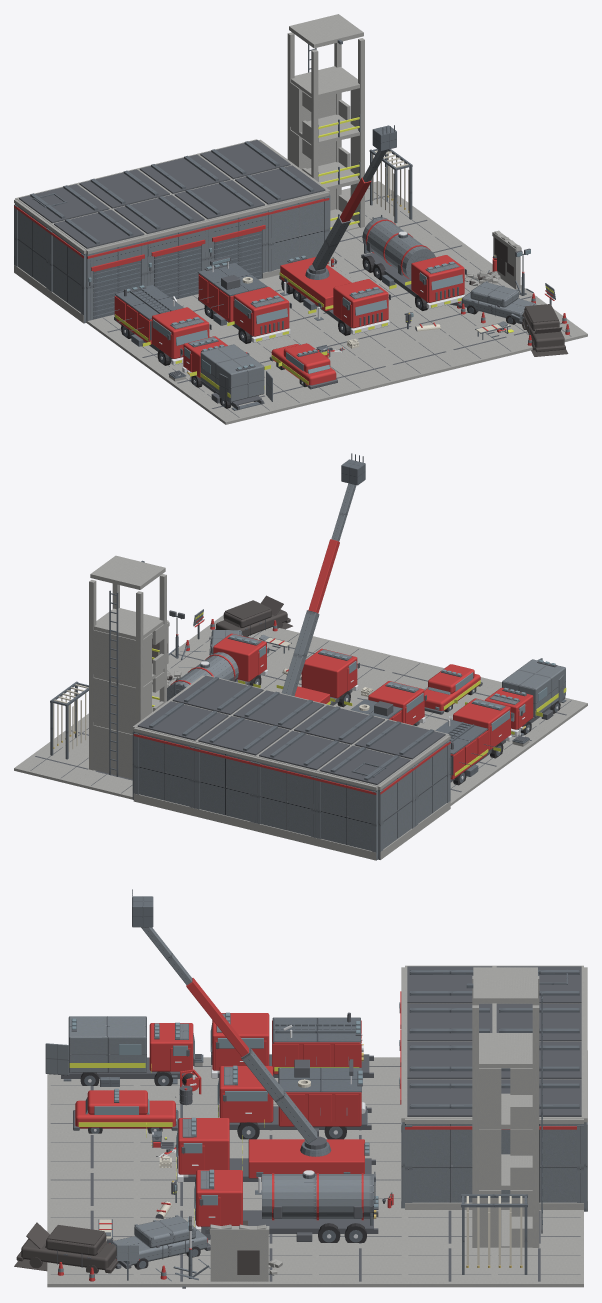
Rendered from fire-and-emergency-services-station-turn-9a0dc357-starter-scene__29942.glb.
3 views of the same model, one above another, from view 1: azimuth 30°, elevation 25°; view 2: azimuth 150°, elevation 25°; view 3: azimuth 270°, elevation 25° (orthographic). The views are drawn at different scales.
Parts seen in each view (by area): view 1: 064-drill-tower/0, 047-station-wall-module/0, 068-ladder-platform-appliance-boom-raised/20, 070-ambulance-rear-doors-open/16, 041-station-wall-module/0, 023-station-floor-slab/0, 069-water-carrier/22, 029-station-floor-slab/0, 040-station-wall-module/0, 045-appliance-bay-door-module/bay-door/tread, 017-station-floor-slab/0, 044-appliance-bay-door-module/bay-door/tread (+48 smaller); view 2: 064-drill-tower/0, 036-station-wall-module/0, 039-station-wall-module/0, 037-station-wall-module/0, 038-station-wall-module/0, 068-ladder-platform-appliance-boom-raised/boom-lift (×3), 040-station-wall-module/0, 041-station-wall-module/0, 068-ladder-platform-appliance-boom-raised/20, 030-station-floor-slab/0, 070-ambulance-rear-doors-open/16, 093-burnt-car-shell/0 (+35 smaller); view 3: 064-drill-tower/0, 068-ladder-platform-appliance-boom-raised/20, 043-station-wall-module/0, 069-water-carrier/22, 068-ladder-platform-appliance-boom-raised/boom-lift (×3), 070-ambulance-rear-doors-open/16, 042-station-wall-module/0, 032-station-floor-slab/0, 093-burnt-car-shell/0, 031-station-floor-slab/0, 030-station-floor-slab/0, 023-station-floor-slab/0 (+64 smaller).
Boxes of the visible parts, left/top/right/bottom form: 064-drill-tower/0: left=287, top=14, right=364, bottom=230; 047-station-wall-module/0: left=268, top=195, right=329, bottom=271; 068-ladder-platform-appliance-boom-raised/20: left=280, top=257, right=388, bottom=328; 070-ambulance-rear-doors-open/16: left=188, top=337, right=264, bottom=401; 041-station-wall-module/0: left=49, top=229, right=86, bottom=323; 023-station-floor-slab/0: left=372, top=338, right=467, bottom=380; 069-water-carrier/22: left=362, top=217, right=459, bottom=279; 029-station-floor-slab/0: left=433, top=323, right=527, bottom=365; 040-station-wall-module/0: left=14, top=204, right=49, bottom=289; 045-appliance-bay-door-module/bay-door/tread: left=154, top=245, right=201, bottom=299; 017-station-floor-slab/0: left=330, top=353, right=406, bottom=395; 044-appliance-bay-door-module/bay-door/tread: left=93, top=260, right=141, bottom=319; 064-drill-tower/0: left=89, top=555, right=166, bottom=779; 036-station-wall-module/0: left=315, top=776, right=377, bottom=860; 039-station-wall-module/0: left=133, top=732, right=194, bottom=807; 037-station-wall-module/0: left=255, top=761, right=316, bottom=837; 038-station-wall-module/0: left=194, top=746, right=255, bottom=822; 068-ladder-platform-appliance-boom-raised/boom-lift (×3): left=281, top=453, right=365, bottom=696; 040-station-wall-module/0: left=378, top=765, right=415, bottom=859; 041-station-wall-module/0: left=414, top=740, right=450, bottom=826; 068-ladder-platform-appliance-boom-raised/20: left=294, top=648, right=357, bottom=703; 030-station-floor-slab/0: left=14, top=742, right=91, bottom=785; 070-ambulance-rear-doors-open/16: left=489, top=659, right=565, bottom=717; 093-burnt-car-shell/0: left=216, top=595, right=292, bottom=637; 064-drill-tower/0: left=472, top=967, right=539, bottom=1247; 068-ladder-platform-appliance-boom-raised/20: left=178, top=1118, right=364, bottom=1178; 043-station-wall-module/0: left=405, top=1124, right=472, bottom=1202; 069-water-carrier/22: left=200, top=1170, right=373, bottom=1219; 068-ladder-platform-appliance-boom-raised/boom-lift (×3): left=132, top=889, right=317, bottom=1143; 070-ambulance-rear-doors-open/16: left=68, top=1016, right=188, bottom=1072; 042-station-wall-module/0: left=501, top=1124, right=583, bottom=1202; 032-station-floor-slab/0: left=315, top=1246, right=404, bottom=1287; 093-burnt-car-shell/0: left=14, top=1222, right=118, bottom=1273; 031-station-floor-slab/0: left=405, top=1246, right=494, bottom=1287; 030-station-floor-slab/0: left=494, top=1246, right=583, bottom=1287; 023-station-floor-slab/0: left=47, top=1170, right=136, bottom=1208.
Bounding box in the file's own units: 24.32 × 14.32 × 25.68.
Materials: 12 (3 with a texture image).
